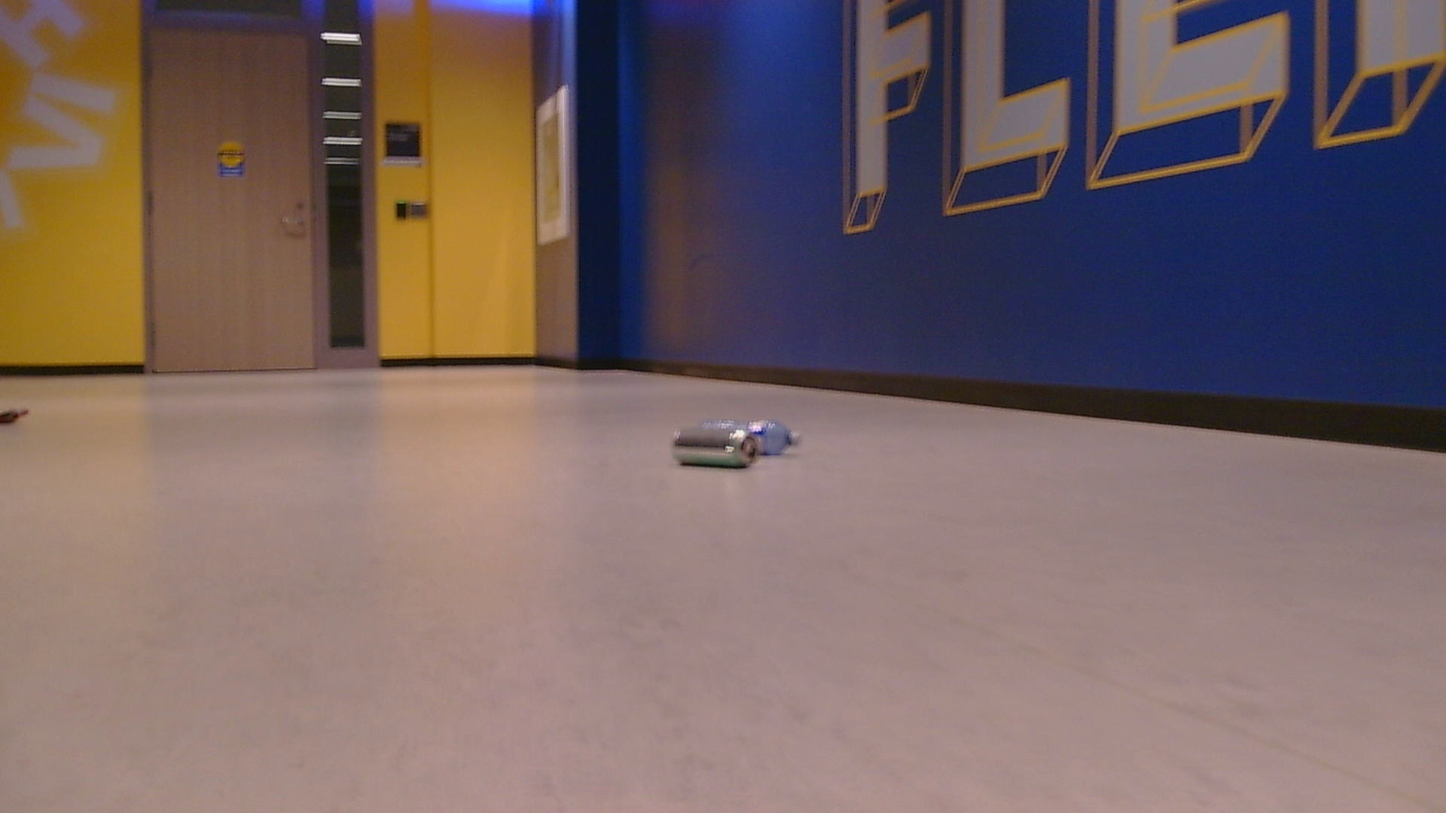can: (671, 417, 801, 468)
